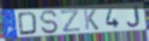4: (105, 7, 121, 30)
D: (17, 11, 39, 36)
J: (127, 6, 141, 28)
K: (82, 8, 100, 31)
S: (39, 9, 60, 35)
Z: (60, 9, 81, 33)
